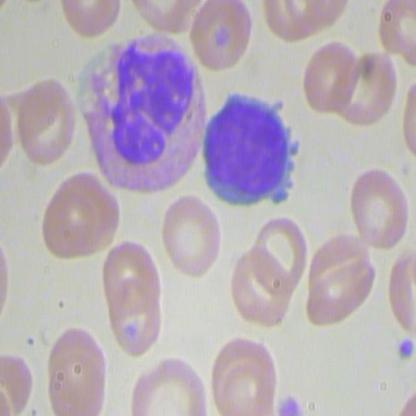Platelets: (393, 334, 414, 361)
RBC: (42, 316, 110, 415), (157, 192, 226, 282), (15, 76, 81, 169), (245, 203, 311, 296), (38, 170, 104, 263), (345, 161, 410, 250), (208, 335, 279, 415), (99, 237, 166, 312), (188, 1, 255, 75), (124, 357, 209, 415), (302, 37, 361, 119)
WBC: (70, 29, 211, 203), (199, 88, 299, 213)
